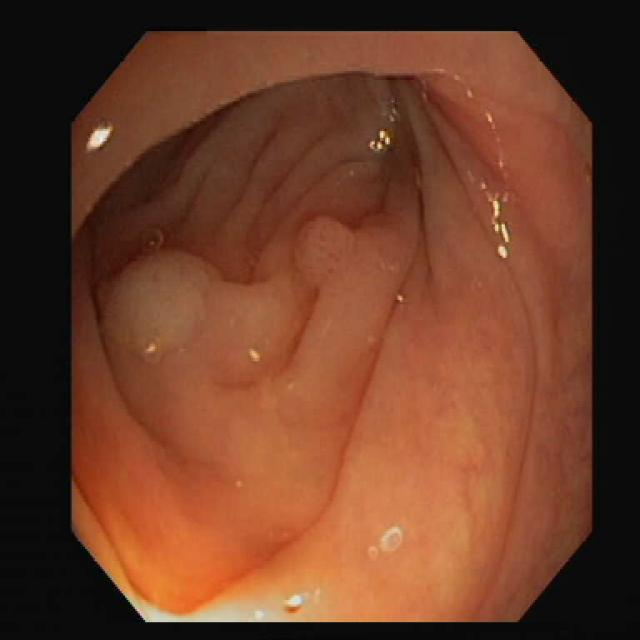tumor: (103, 249, 222, 360), (297, 216, 353, 282)
